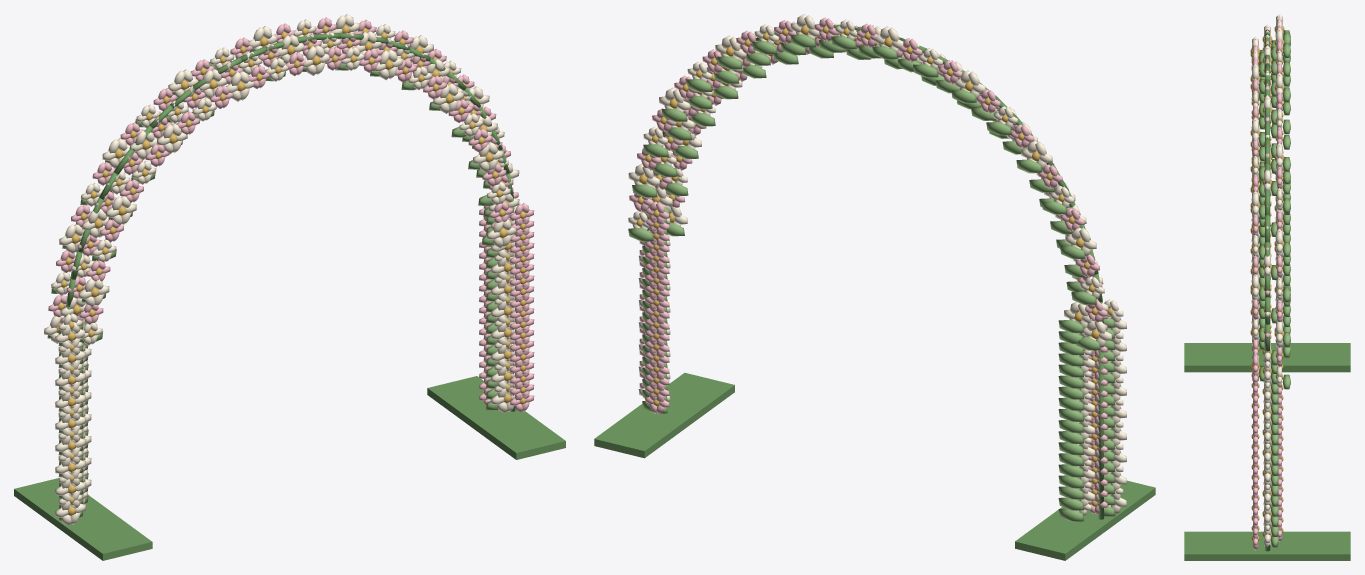
File: backdrop-floral-arch.glb
The picture shows the model from 3 angles, left to right: view 1: azimuth 30°, elevation 25°; view 2: azimuth 150°, elevation 25°; view 3: azimuth 270°, elevation 25°; orthographic projection. The views are drawn at different scales.
Parts seen in each view (by area): view 1: BS_FloralFootR, BS_FloralFootL; view 2: BS_FloralFootR, BS_FloralFootL, BS_FloralPost.001; view 3: BS_FloralFootR, BS_FloralFootL.
Part boxes in pixels (box(x1,y1,x2,y2)): BS_FloralFootR: box(427, 376, 565, 459); BS_FloralFootL: box(14, 478, 152, 560); BS_FloralFootR: box(594, 372, 734, 458); BS_FloralFootL: box(1015, 480, 1155, 560); BS_FloralPost.001: box(1098, 350, 1104, 519); BS_FloralFootR: box(1184, 531, 1350, 560); BS_FloralFootL: box(1184, 343, 1350, 372).
Size of the model in its own units: 2.8 by 2.49 by 0.9.
